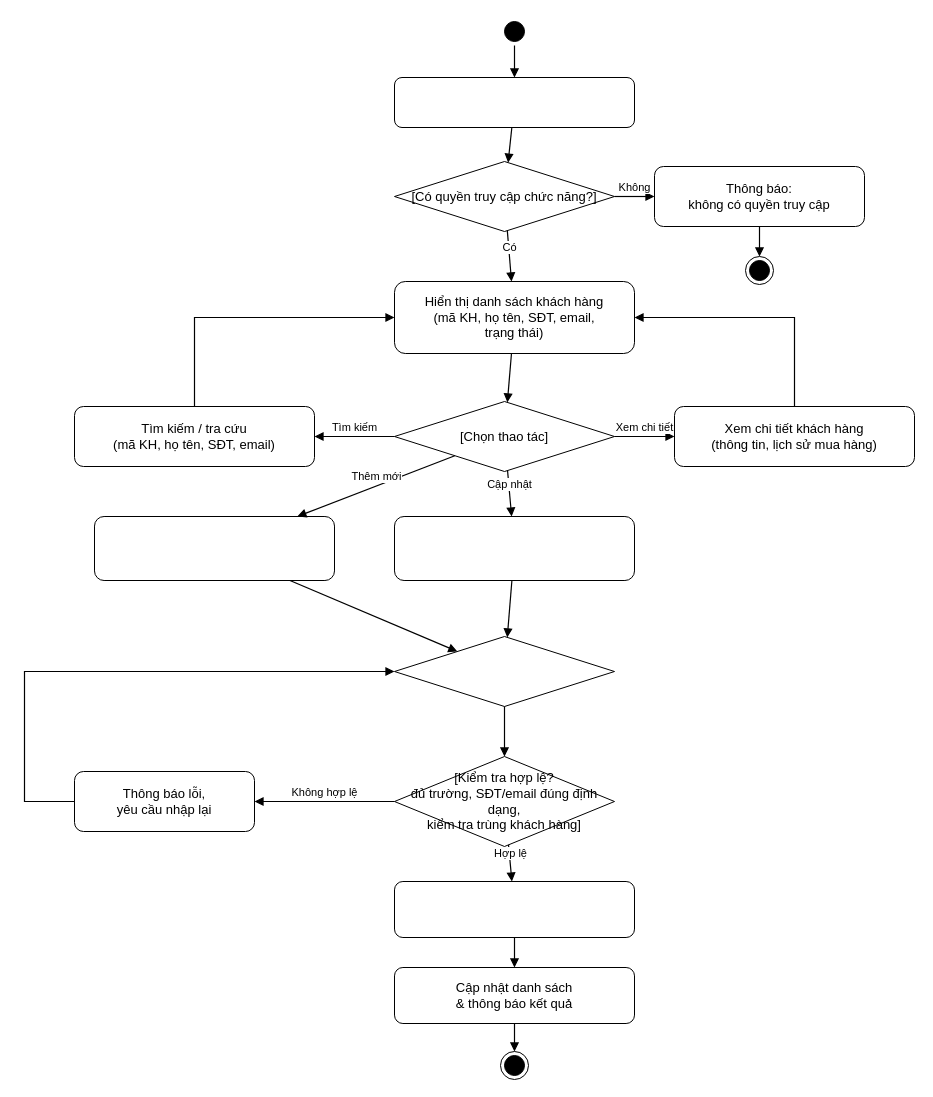
This 933x1097 diagram has some shape labels left out. The shapes that lost their labels are listed below. From the top down, each one's centre as x and y in pixels, then its label:
At (514,102): "Mở màn hình quản lý khách hàng".
At (214,548): "Thêm mới: nhập họ tên, SĐT, email, địa chỉ, ngày sinh".
At (514,548): "Cập nhật: sửa họ tên, SĐT, email, địa chỉ".
At (514,909): "Lưu thông tin khách hàng vào cơ sở dữ liệu (qua Repository)".
